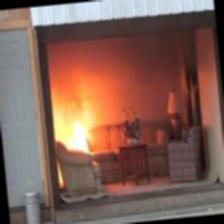fire: (57, 98, 92, 149)
